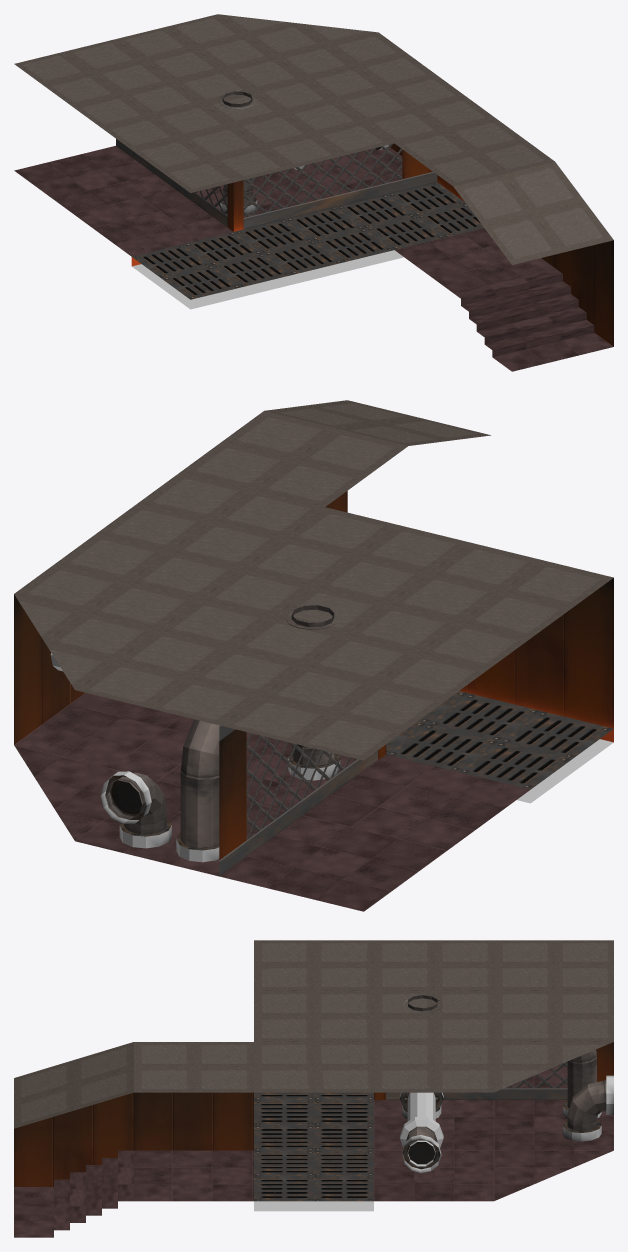
The model's file is molten_connector_s.fbx.
The picture shows the model from 3 angles, top to bottom: view 1: azimuth 30°, elevation 25°; view 2: azimuth 150°, elevation 25°; view 3: azimuth 270°, elevation 25°; orthographic projection. The views are drawn at different scales.
Visible parts, largest first — view 1: Wall, Floor, WallOffsection, FloorBlockedoff, Lava, Pipes; view 2: Wall, Floor, FloorBlockedoff, Pipes, WallOffsection, Lava; view 3: Wall, Floor, FloorBlockedoff, Pipes, WallOffsection, Lava.
Boxes of the visible parts, x1,y1,x2,y2 form: Wall: (14,14,613,346); Floor: (14,146,613,371); WallOffsection: (116,139,437,231); FloorBlockedoff: (196,146,402,217); Lava: (132,250,403,309); Pipes: (218,91,388,215); Wall: (14,400,613,760); Floor: (220,691,613,911); FloorBlockedoff: (14,693,355,876); Pipes: (50,605,340,862); WallOffsection: (219,725,386,876); Lava: (517,739,613,803); Wall: (14,940,613,1186); Floor: (14,1063,567,1237); FloorBlockedoff: (374,1100,613,1201); Pipes: (400,995,613,1173); WallOffsection: (374,1042,613,1099); Lava: (254,1201,373,1211).
Size of what is drawn, in the model's own units: 1377 by 623 by 2286.
